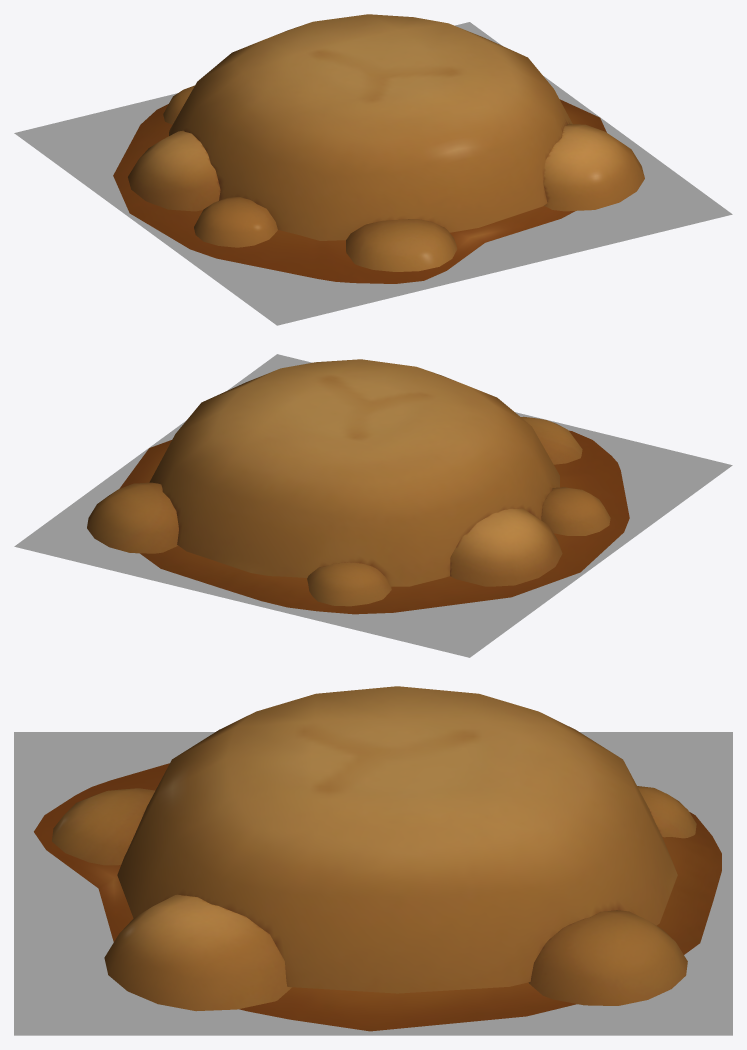
File: Soil.fbx
The picture shows the model from 3 angles, top to bottom: view 1: azimuth 30°, elevation 25°; view 2: azimuth 150°, elevation 25°; view 3: azimuth 270°, elevation 25°; orthographic projection. The views are drawn at different scales.
Parts seen in each view (by area): view 1: Soil, SoilGrid; view 2: Soil, SoilGrid; view 3: Soil, SoilGrid.
Part boxes in pixels (x1,y1,x2,y2): Soil: [113, 14, 644, 283]; SoilGrid: [14, 22, 732, 325]; Soil: [87, 359, 629, 614]; SoilGrid: [14, 354, 732, 657]; Soil: [34, 686, 721, 1031]; SoilGrid: [14, 732, 732, 1035].
Size of the model in its own units: 1 by 0.2083 by 1.
3 materials, 2 textured.
